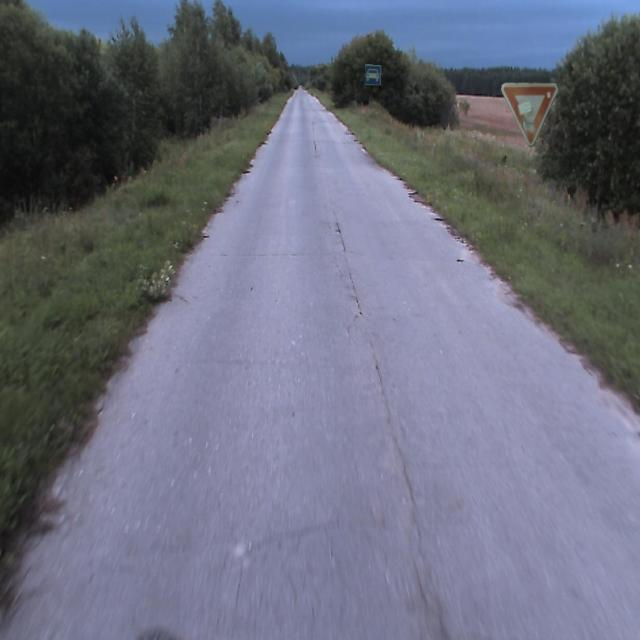road: (0, 85, 639, 639)
